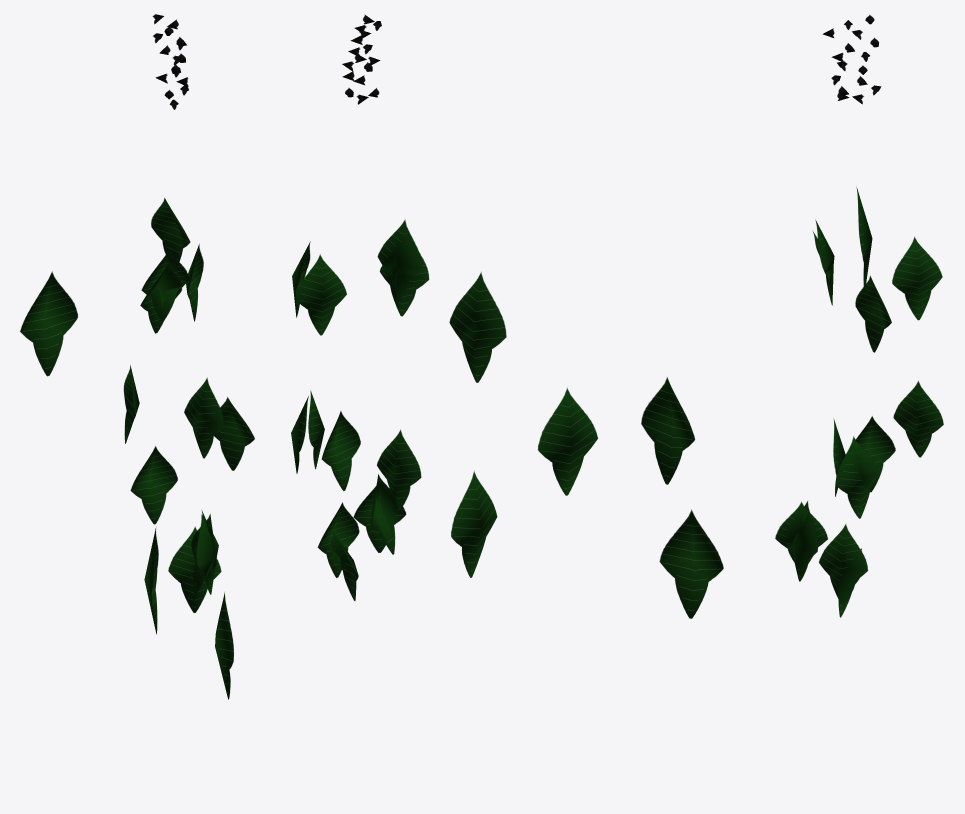
Rendered from Herb_Pokeweed.glb.
3 renders of one model, left to right at view 1: azimuth 30°, elevation 25°; view 2: azimuth 150°, elevation 25°; view 3: azimuth 270°, elevation 25°, orthographic.
Visible parts, largest first — view 1: Herb_Pokeweed; view 2: Herb_Pokeweed; view 3: Herb_Pokeweed.
Part boxes in pixels (box(x1,y1,x2,y2)): Herb_Pokeweed: box(20, 14, 254, 699); Herb_Pokeweed: box(291, 15, 597, 600); Herb_Pokeweed: box(641, 15, 943, 618).
Bounding box in the file's own units: 0.6401 × 2.08 × 0.77.
1 material, 1 textured.
